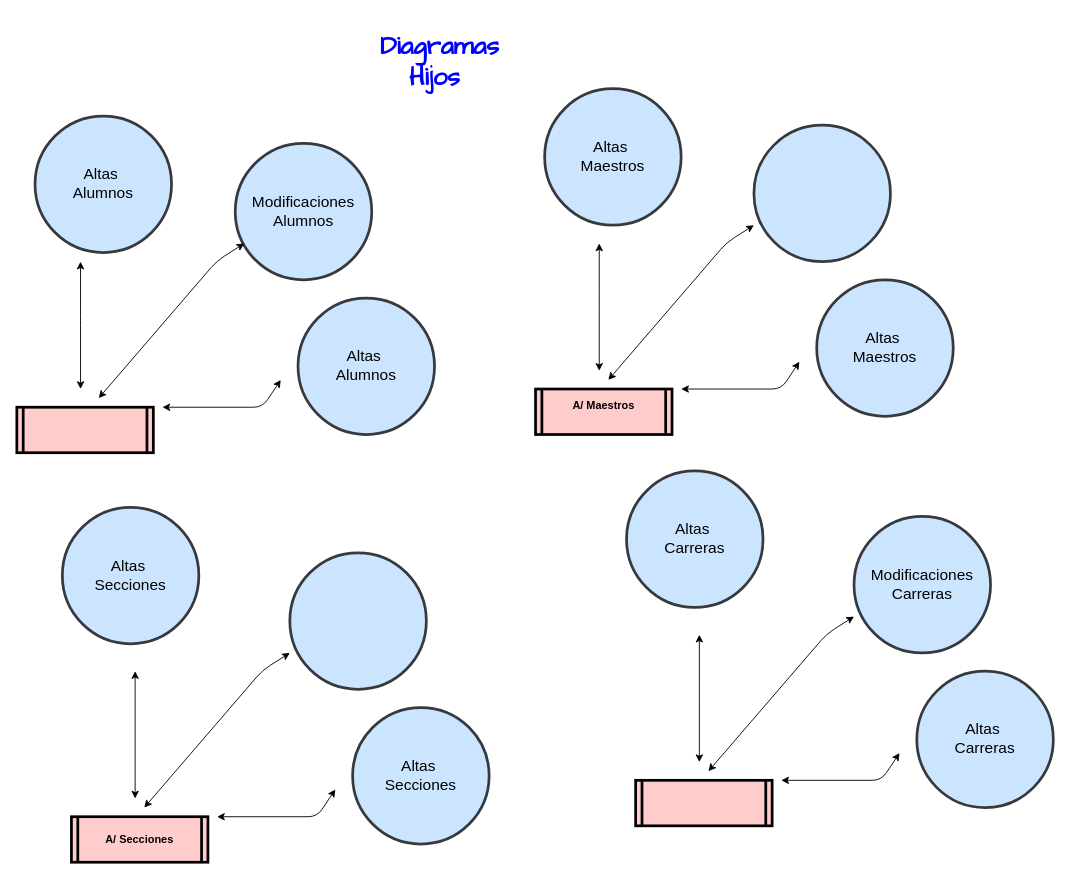
Image size: 1070x879. Some labels were removed from this diagram. Each missing label, with the box of its shape:
A/ Alumnos: (15, 405, 154, 454)
A/ Carreras: (634, 779, 773, 827)
Modificaciones Maestros: (752, 123, 891, 263)
Modificaciones Secciones: (288, 551, 427, 690)
